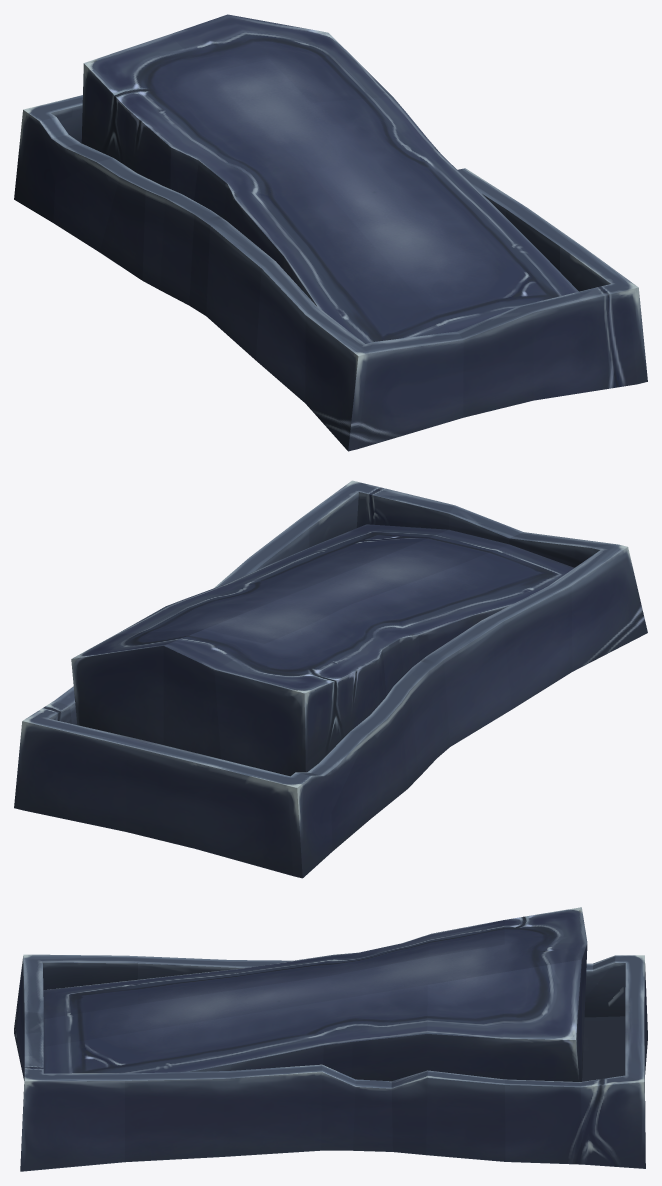
Rendered from tomb2_2.fbx.
The picture shows the model from 3 angles, top to bottom: view 1: azimuth 30°, elevation 25°; view 2: azimuth 150°, elevation 25°; view 3: azimuth 270°, elevation 25°; orthographic projection. The views are drawn at different scales.
Visible parts, largest first — view 1: Cube.016; view 2: Cube.016; view 3: Cube.016.
Part boxes in pixels (x1,y1,x2,y2): Cube.016: [14, 14, 647, 451]; Cube.016: [14, 480, 647, 878]; Cube.016: [14, 907, 647, 1171].
Size of the model in its own units: 359 by 195 by 700.
